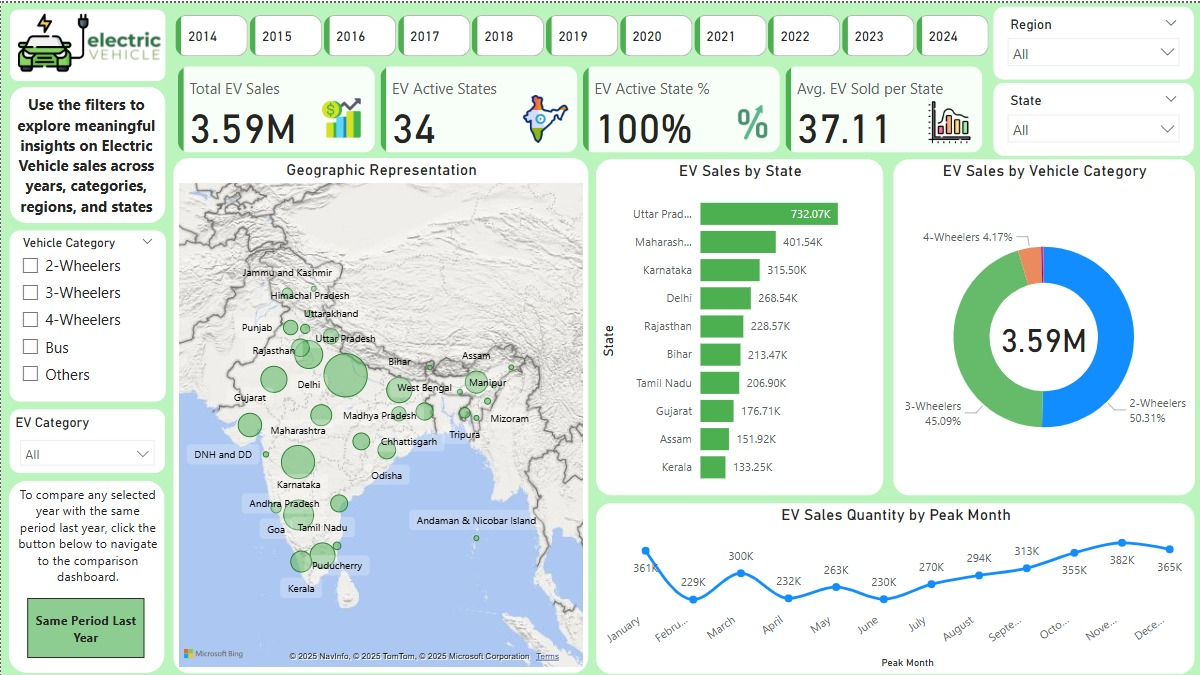

This screenshot's page, from the dashboard's own definition file:
{"tool":"powerbi","page":{"name":"Dasboard","canvas":[1280,720],"ordinal":0},"visuals":[{"type":"shape","box":[9.3,7,166.3,76.7],"z":0},{"type":"image","box":[12.8,0,84.9,84.9],"z":1000},{"type":"advancedSlicerVisual","fields":{"Values":["Custom_Calendar.Date.Variation.Date Hierarchy.Year"]},"box":[181.4,8.1,886,54.7],"z":2000},{"type":"slicer","fields":{"Values":["Cleaned_Electric_Vehicle_Sales.Vehicle_Category"]},"box":[9.6,242.9,166,182.5],"z":3000},{"type":"image","box":[76.7,22.1,110.5,48.8],"z":4000},{"type":"slicer","fields":{"Values":["Cleaned_Electric_Vehicle_Sales.Region"]},"box":[1058.7,4,213.3,77.3],"z":5000},{"type":"slicer","fields":{"Values":["Cleaned_Electric_Vehicle_Sales.State"]},"box":[1058.7,85.3,213.3,77.3],"z":6000},{"type":"shape","box":[9.6,89.2,166,145.5],"z":7000},{"type":"textbox","box":[8.2,91.9,166,140],"z":8000},{"type":"donutChart","fields":{"Category":["Cleaned_Electric_Vehicle_Sales.Vehicle_Category"],"Y":["Cleaned_Electric_Vehicle_Sales.Total EV Sales"]},"box":[952,166.7,321.3,358.7],"z":9000},{"type":"cardVisual","fields":{"Data":["Cleaned_Electric_Vehicle_Sales.Total EV Sales"]},"box":[1032,314.7,161.3,90.7],"z":11000},{"type":"cardVisual","fields":{"Data":["Cleaned_Electric_Vehicle_Sales.Total EV Sales","Cleaned_Electric_Vehicle_Sales.Total EV-Active States","Cleaned_Electric_Vehicle_Sales.EV Active State %","Cleaned_Electric_Vehicle_Sales.Avg.EV Sold"]},"box":[184,62.7,870.7,102.7],"z":11001},{"type":"lineChart","fields":{"Category":["Cleaned_Electric_Vehicle_Sales.Peak Month"],"Y":["Sum(Cleaned_Electric_Vehicle_Sales.EV_Sales_Quantity)"]},"box":[634.7,533.3,638.7,182],"z":11004},{"type":"clusteredBarChart","fields":{"Category":["Cleaned_Electric_Vehicle_Sales.State"],"Y":["Cleaned_Electric_Vehicle_Sales.Total EV Sales"]},"box":[634.7,166.7,306.7,358.7],"z":11005},{"type":"slicer","title":"EV Category","fields":{"Values":["Cleaned_Electric_Vehicle_Sales.EV_Category"]},"box":[9.3,433.3,165.3,68],"z":11006},{"type":"map","title":"Geographic Representation","fields":{"Category":["Cleaned_Electric_Vehicle_Sales.State"],"Size":["Sum(Cleaned_Electric_Vehicle_Sales.EV_Sales_Quantity)"]},"box":[184,165.3,442.7,549.3],"z":11007},{"type":"shape","box":[8,509.3,166.7,205.3],"z":11008},{"type":"image","box":[981.3,100,61.3,54.7],"z":11009},{"type":"image","box":[778.7,100,46.7,54.7],"z":11010},{"type":"image","box":[550.7,93.3,61.3,61.3],"z":11011},{"type":"image","box":[330.7,93.3,65.3,58.7],"z":11012},{"type":"pageNavigator","box":[28,634.7,125.3,64],"z":11014},{"type":"textbox","box":[13.3,509.3,158.7,117.3],"z":11015}]}

Visuals, with their boxes in screenshot pixels (x1, y1, x2, y2), scaled from the page's 1280x720 canvas onto the 1200x675 screenshot:
shape: pyautogui.locateOnScreen(9, 7, 165, 78)
image: pyautogui.locateOnScreen(12, 0, 92, 80)
advancedSlicerVisual - Custom_Calendar.Date.Variation.Date Hierarchy.Year: pyautogui.locateOnScreen(170, 8, 1001, 59)
slicer - Cleaned_Electric_Vehicle_Sales.Vehicle_Category: pyautogui.locateOnScreen(9, 228, 165, 399)
image: pyautogui.locateOnScreen(72, 21, 176, 66)
slicer - Cleaned_Electric_Vehicle_Sales.Region: pyautogui.locateOnScreen(993, 4, 1192, 76)
slicer - Cleaned_Electric_Vehicle_Sales.State: pyautogui.locateOnScreen(993, 80, 1192, 152)
shape: pyautogui.locateOnScreen(9, 84, 165, 220)
textbox: pyautogui.locateOnScreen(8, 86, 163, 217)
donutChart - Cleaned_Electric_Vehicle_Sales.Vehicle_Category x Cleaned_Electric_Vehicle_Sales.Total EV Sales: pyautogui.locateOnScreen(892, 156, 1194, 493)
cardVisual - Cleaned_Electric_Vehicle_Sales.Total EV Sales: pyautogui.locateOnScreen(968, 295, 1119, 380)
cardVisual - Cleaned_Electric_Vehicle_Sales.Total EV Sales x Cleaned_Electric_Vehicle_Sales.Total EV-Active States: pyautogui.locateOnScreen(172, 59, 989, 155)
lineChart - Cleaned_Electric_Vehicle_Sales.Peak Month x Sum(Cleaned_Electric_Vehicle_Sales.EV_Sales_Quantity): pyautogui.locateOnScreen(595, 500, 1194, 671)
clusteredBarChart - Cleaned_Electric_Vehicle_Sales.State x Cleaned_Electric_Vehicle_Sales.Total EV Sales: pyautogui.locateOnScreen(595, 156, 883, 493)
"EV Category" slicer: pyautogui.locateOnScreen(9, 406, 164, 470)
"Geographic Representation" map: pyautogui.locateOnScreen(172, 155, 588, 670)
shape: pyautogui.locateOnScreen(8, 477, 164, 670)
image: pyautogui.locateOnScreen(920, 94, 977, 145)
image: pyautogui.locateOnScreen(730, 94, 774, 145)
image: pyautogui.locateOnScreen(516, 87, 574, 145)
image: pyautogui.locateOnScreen(310, 87, 371, 142)
pageNavigator: pyautogui.locateOnScreen(26, 595, 144, 655)
textbox: pyautogui.locateOnScreen(12, 477, 161, 587)
